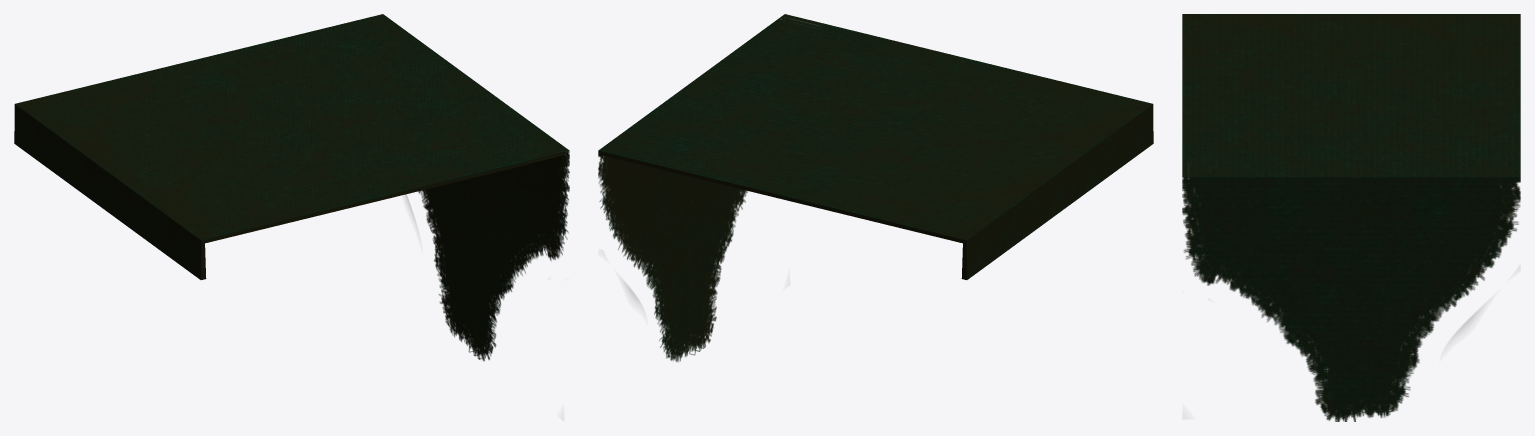
File: workbenchTableCloth.glb
3 views of the same model, side by side, from view 1: azimuth 30°, elevation 25°; view 2: azimuth 150°, elevation 25°; view 3: azimuth 270°, elevation 25° (orthographic). The views are drawn at different scales.
Parts seen in each view (by area): view 1: workbenchTableCloth; view 2: workbenchTableCloth; view 3: workbenchTableCloth.
Part boxes in pixels (x1,y1,x2,y2): workbenchTableCloth: (14,14,569,361); workbenchTableCloth: (598,14,1153,362); workbenchTableCloth: (1182,14,1520,421).
Size of the model in its own units: 0.4319 by 0.3024 by 0.3785.
1 material, 1 textured.
